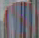No parking: (2, 1, 37, 37)
